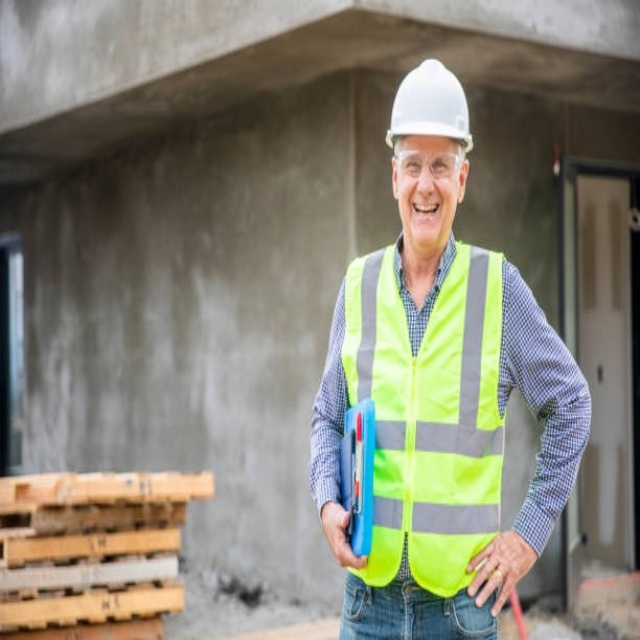Gafas: (394, 148, 467, 180)
Sin_guantes: (467, 528, 533, 615), (322, 501, 369, 572)
Sin_mascara: (405, 195, 444, 238)
